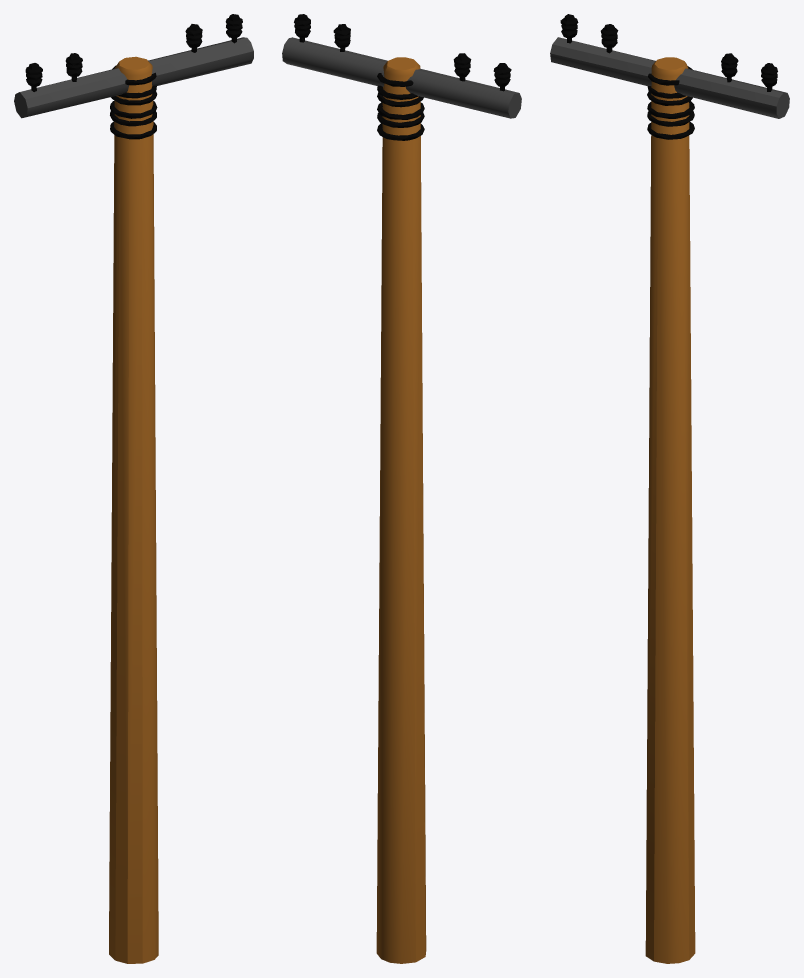
Rendered from Electric Pole.fbx.
3 renders of one model, left to right at view 1: azimuth 30°, elevation 25°; view 2: azimuth 150°, elevation 25°; view 3: azimuth 330°, elevation 25°, orthographic.
Visible parts, largest first — view 1: Pole; view 2: Pole; view 3: Pole.
Part boxes in pixels (left/top/right/bottom): Pole: left=14, top=14, right=253, bottom=963; Pole: left=282, top=14, right=521, bottom=963; Pole: left=550, top=14, right=789, bottom=963.
Size of the model in its own units: 192 by 741 by 37.01.
